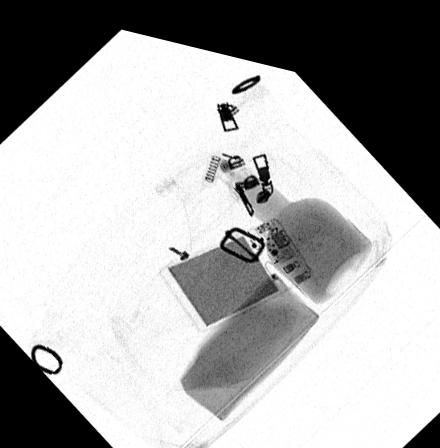Powerbank: (159, 204, 313, 321)
